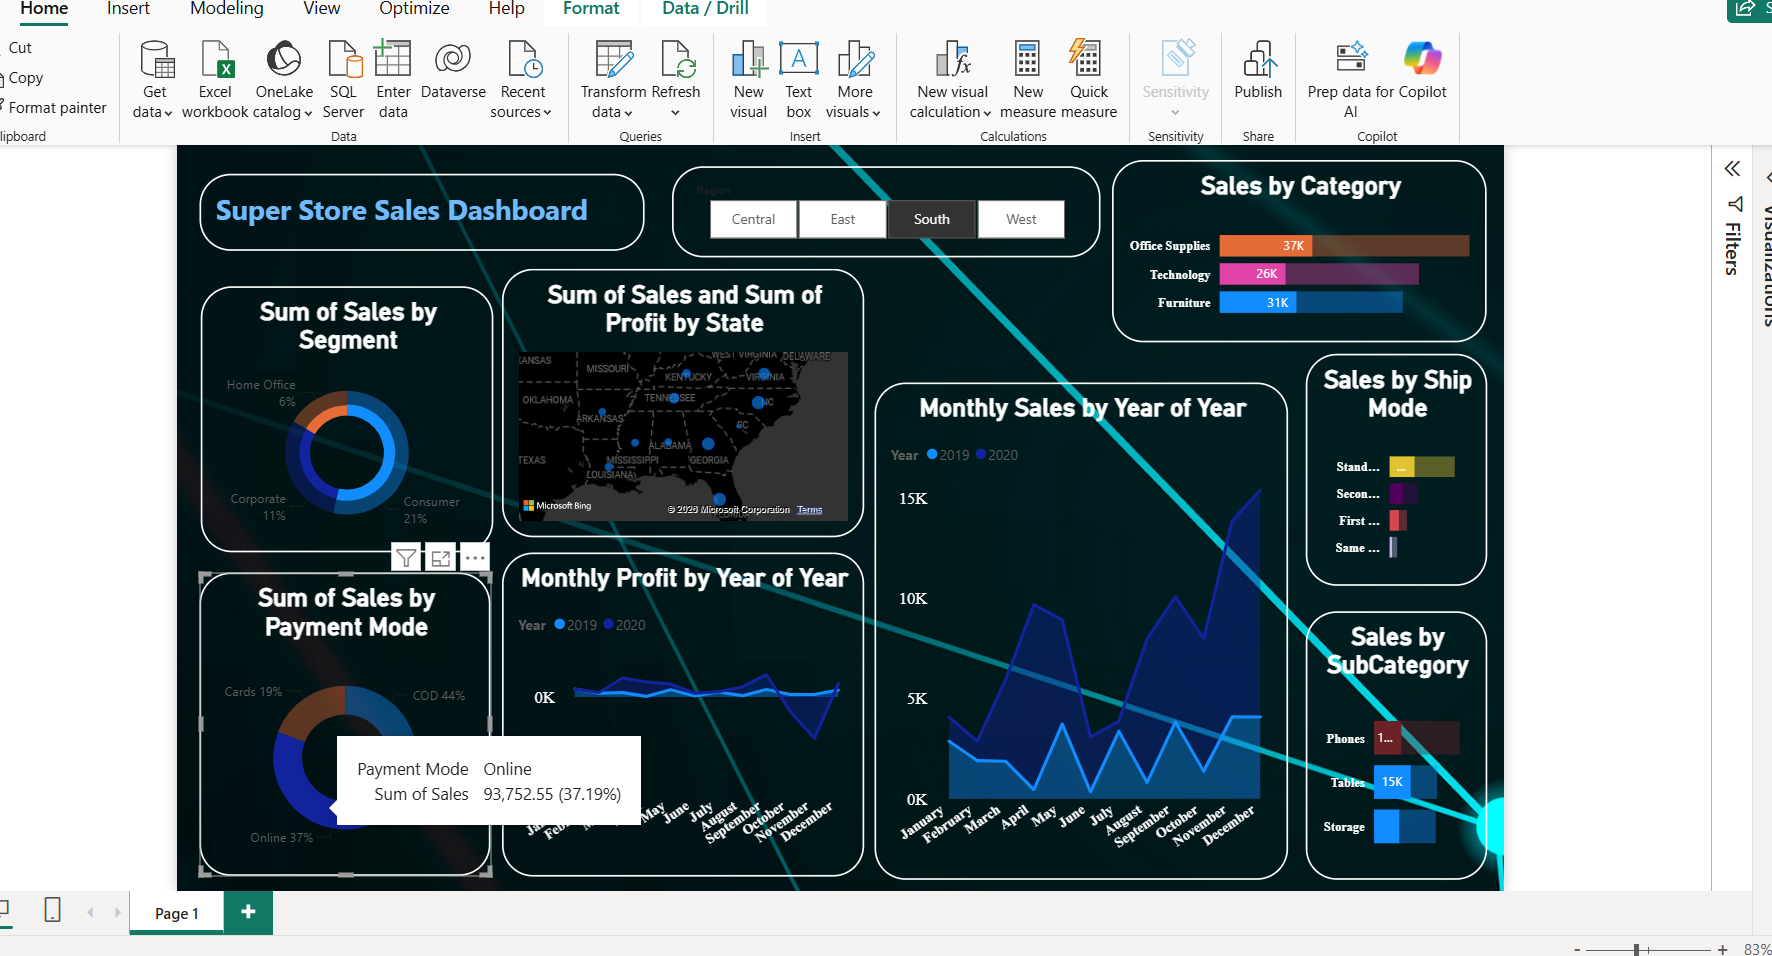

This screenshot's page, from the dashboard's own definition file:
{"tool":"powerbi","page":{"name":"Page 1","canvas":[1280,720],"ordinal":0},"visuals":[{"type":"clusteredBarChart","title":"Sales by Category","fields":{"Category":["SuperStore_Sales_Dataset.Category"],"Y":["Sum(SuperStore_Sales_Dataset.Sales)"]},"box":[902.4,14.5,361.9,176.1],"z":0},{"type":"clusteredBarChart","title":"Sales by SubCategory","fields":{"Category":["SuperStore_Sales_Dataset.Sub-Category"],"Y":["Sum(SuperStore_Sales_Dataset.Sales)"]},"box":[1089.4,450,174.9,259.4],"z":1},{"type":"clusteredBarChart","title":"Sales by Ship Mode","fields":{"Category":["SuperStore_Sales_Dataset.Ship Mode"],"Y":["Sum(SuperStore_Sales_Dataset.Sales)"]},"box":[1089.4,201.5,174.9,224.4],"z":2},{"type":"stackedAreaChart","title":"Monthly Sales by Year of Year","fields":{"Y":["Sum(SuperStore_Sales_Dataset.Sales)"],"Category":["SuperStore_Sales_Dataset.Order Date.Variation.Date Hierarchy.Month","SuperStore_Sales_Dataset.Order Date.Variation.Date Hierarchy.Day"],"Series":["SuperStore_Sales_Dataset.Order Date.Variation.Date Hierarchy.Year"]},"box":[673.2,229.2,399.3,480.2],"z":3},{"type":"stackedAreaChart","title":"Monthly Profit by Year of Year","fields":{"Category":["SuperStore_Sales_Dataset.Order Date.Variation.Date Hierarchy.Month","SuperStore_Sales_Dataset.Order Date.Variation.Date Hierarchy.Day"],"Series":["SuperStore_Sales_Dataset.Order Date.Variation.Date Hierarchy.Year"],"Y":["Sum(SuperStore_Sales_Dataset.Profit)"]},"box":[313.7,393.3,349.9,312.5],"z":4},{"type":"map","fields":{"Category":["SuperStore_Sales_Dataset.State"],"Size":["Sum(SuperStore_Sales_Dataset.Sales)"]},"box":[313.7,119.4,349.9,259.4],"z":5},{"type":"donutChart","fields":{"Category":["SuperStore_Sales_Dataset.Payment Mode"],"Y":["Sum(SuperStore_Sales_Dataset.Sales)"]},"box":[21.7,412.6,281.1,293.2],"z":6},{"type":"slicer","fields":{"Values":["SuperStore_Sales_Dataset.Region"]},"box":[477.8,20.5,413.8,88.1],"z":8},{"type":"textbox","box":[21.7,27.7,429.5,74.8],"z":9},{"type":"donutChart","fields":{"Category":["SuperStore_Sales_Dataset.Segment"],"Y":["Sum(SuperStore_Sales_Dataset.Sales)"]},"box":[22.9,136.3,282.3,257],"z":10}]}

Visuals, with their boxes on the page's 1280x720 design canvas (x1, y1, x2, y2). These are canvas units, not pixel positions in the 1772x956 screenshot, which may show the page scaled, cropped or inside an application window:
"Sales by Category" clusteredBarChart: <bbox>902, 14, 1264, 191</bbox>
"Sales by SubCategory" clusteredBarChart: <bbox>1089, 450, 1264, 709</bbox>
"Sales by Ship Mode" clusteredBarChart: <bbox>1089, 202, 1264, 426</bbox>
"Monthly Sales by Year of Year" stackedAreaChart: <bbox>673, 229, 1072, 709</bbox>
"Monthly Profit by Year of Year" stackedAreaChart: <bbox>314, 393, 664, 706</bbox>
map - SuperStore_Sales_Dataset.State x Sum(SuperStore_Sales_Dataset.Sales): <bbox>314, 119, 664, 379</bbox>
donutChart - SuperStore_Sales_Dataset.Payment Mode x Sum(SuperStore_Sales_Dataset.Sales): <bbox>22, 413, 303, 706</bbox>
slicer - SuperStore_Sales_Dataset.Region: <bbox>478, 20, 892, 109</bbox>
textbox: <bbox>22, 28, 451, 102</bbox>
donutChart - SuperStore_Sales_Dataset.Segment x Sum(SuperStore_Sales_Dataset.Sales): <bbox>23, 136, 305, 393</bbox>
